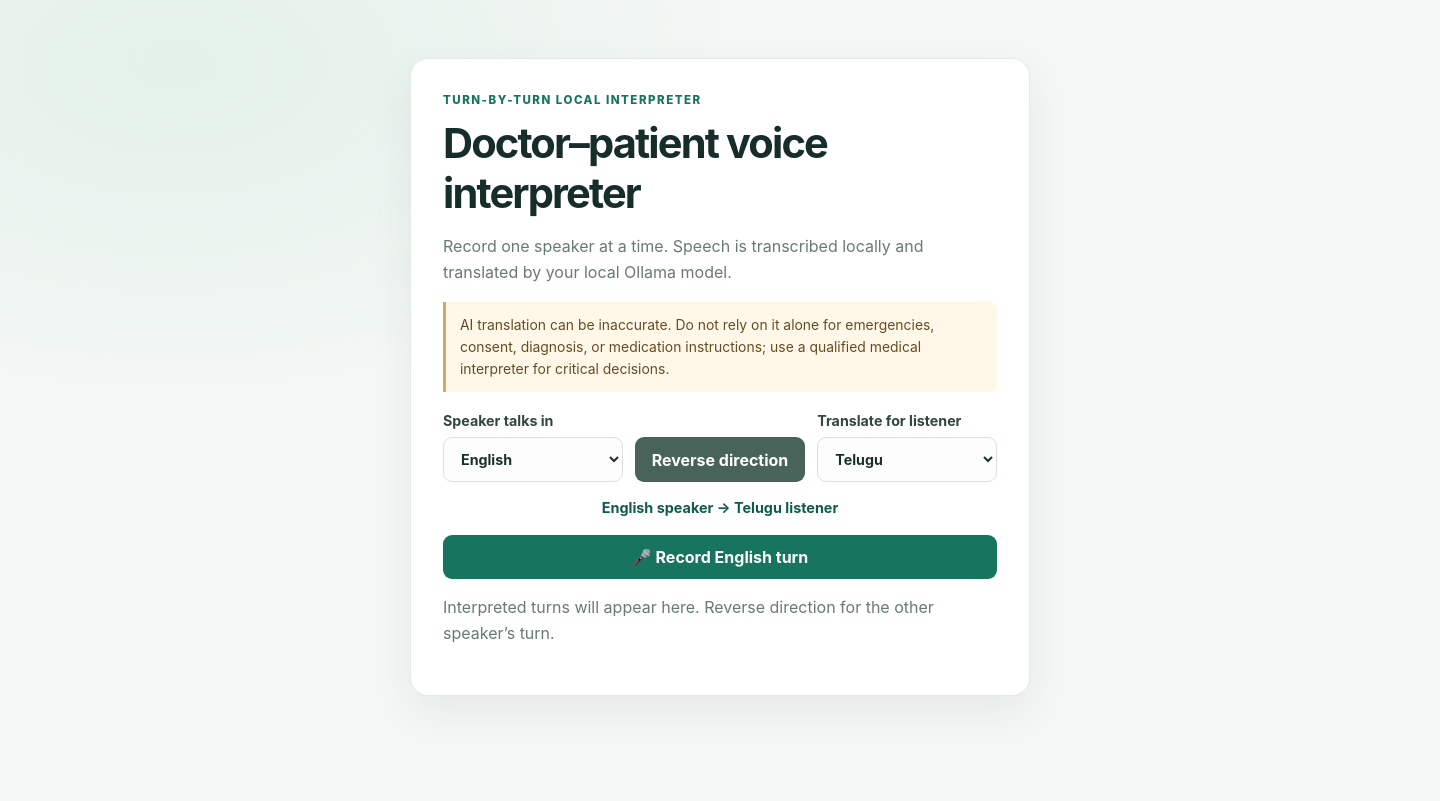
Test case: patient web flow › interprets turns in both directions for the doctor and patient
Click the button "🎤 Record English turn" at (720, 558), box [443,536,997,580]
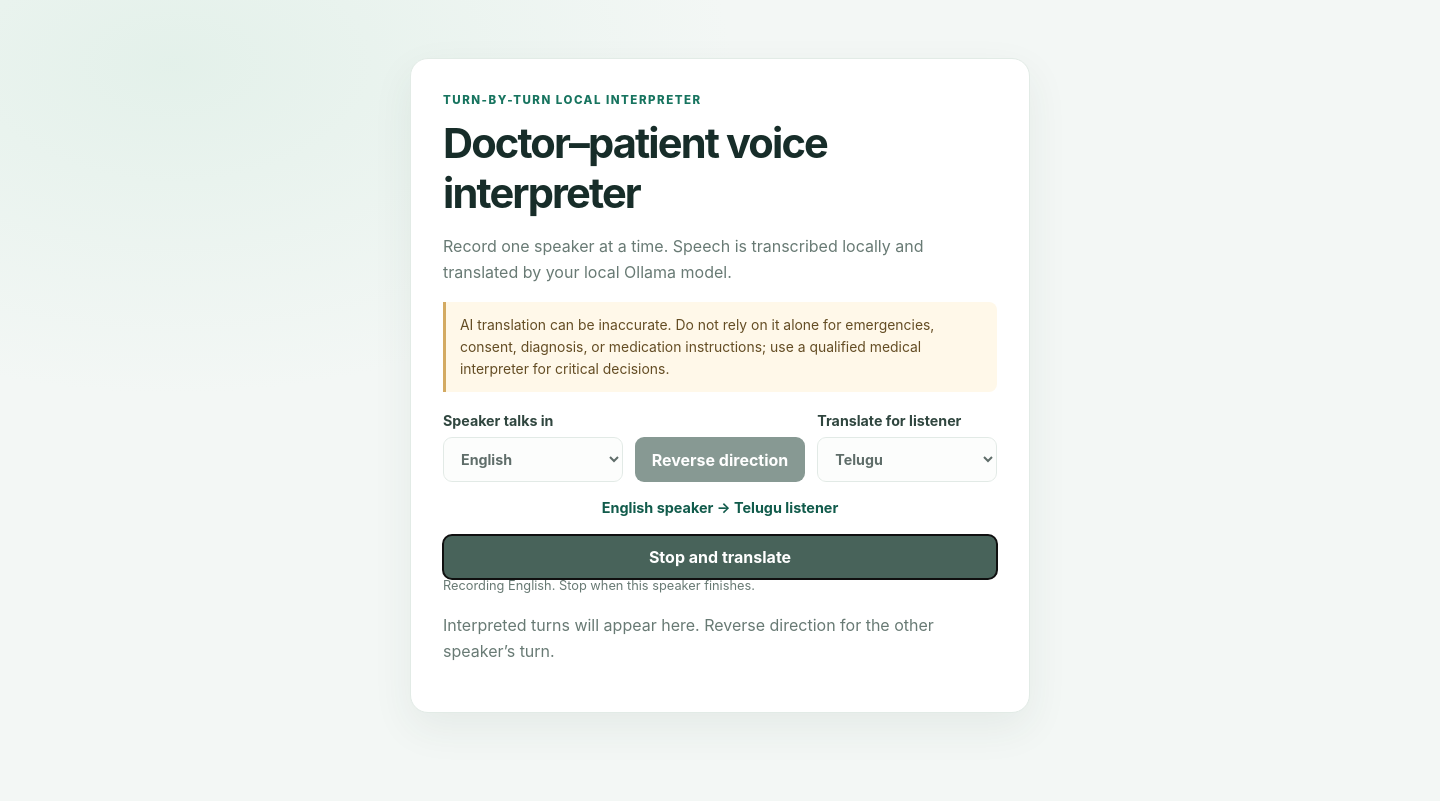
Click the button "Stop and translate" at (720, 558), box [443,536,997,580]
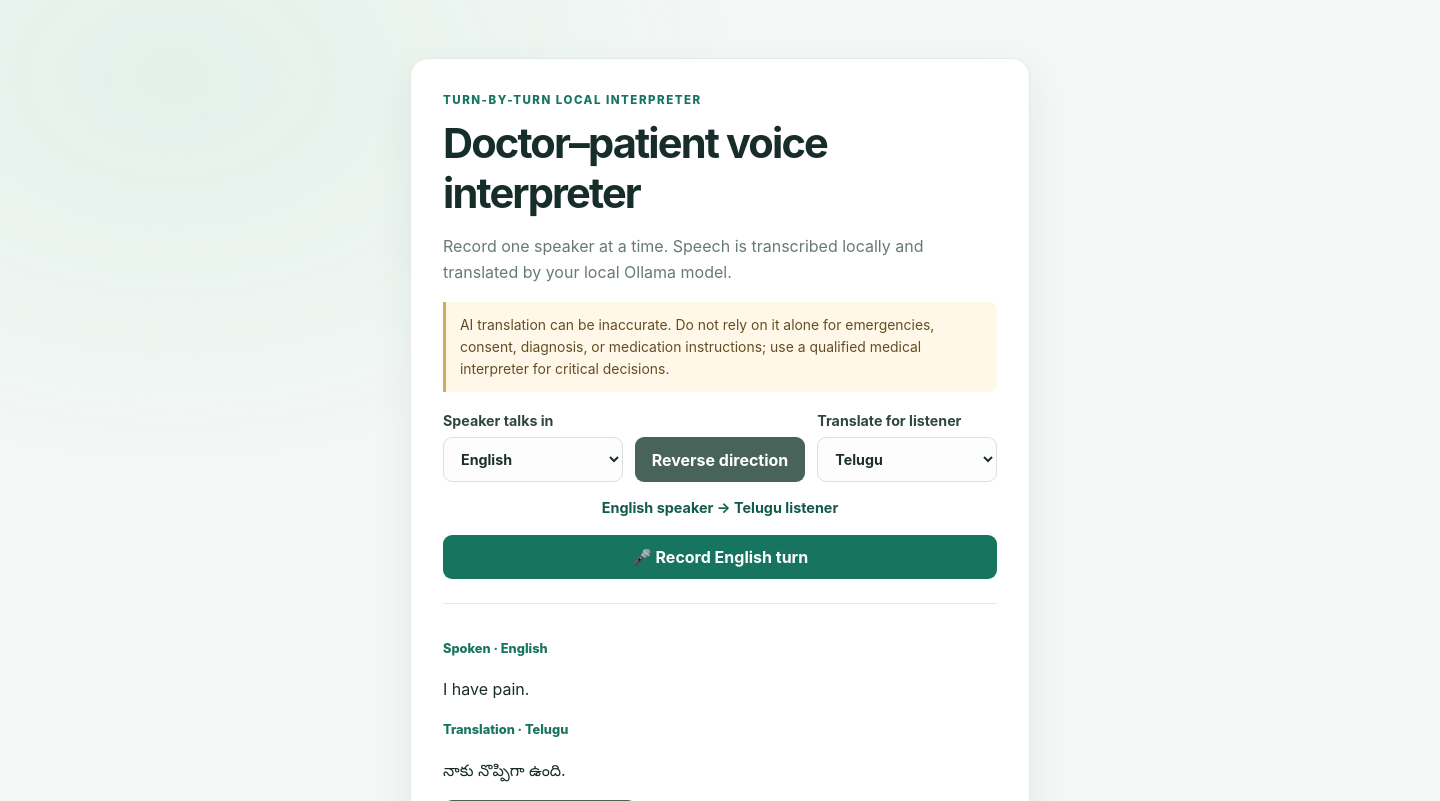
Expected: the text "నాకు నొప్పిగా ఉంది." is shown, [443,760,566,780]
Click the button "Reverse direction" at (720, 460), box [635,437,805,482]
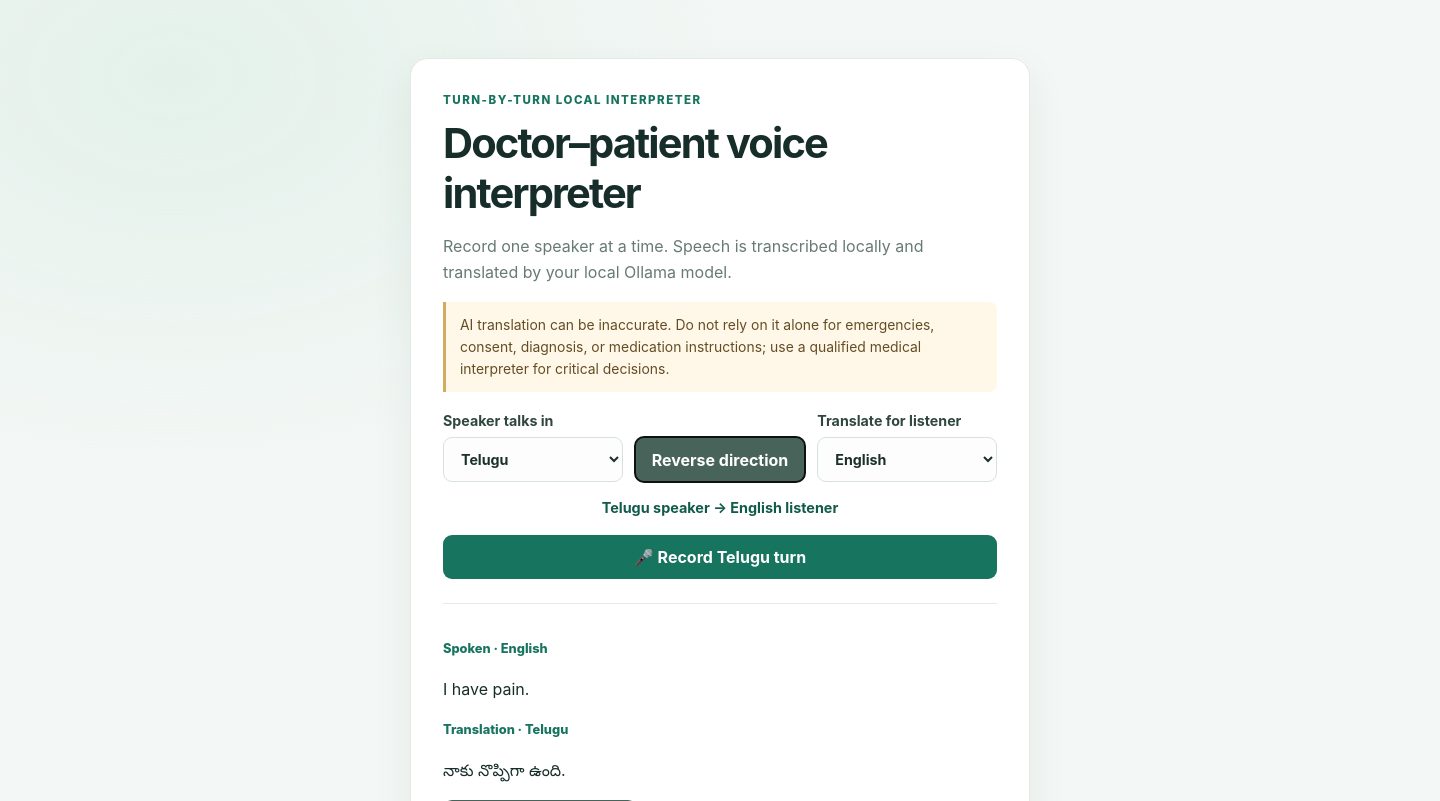
Expected: the button "🎤 Record Telugu turn" is shown
Click the button "🎤 Record Telugu turn" at (720, 558), box [443,536,997,580]
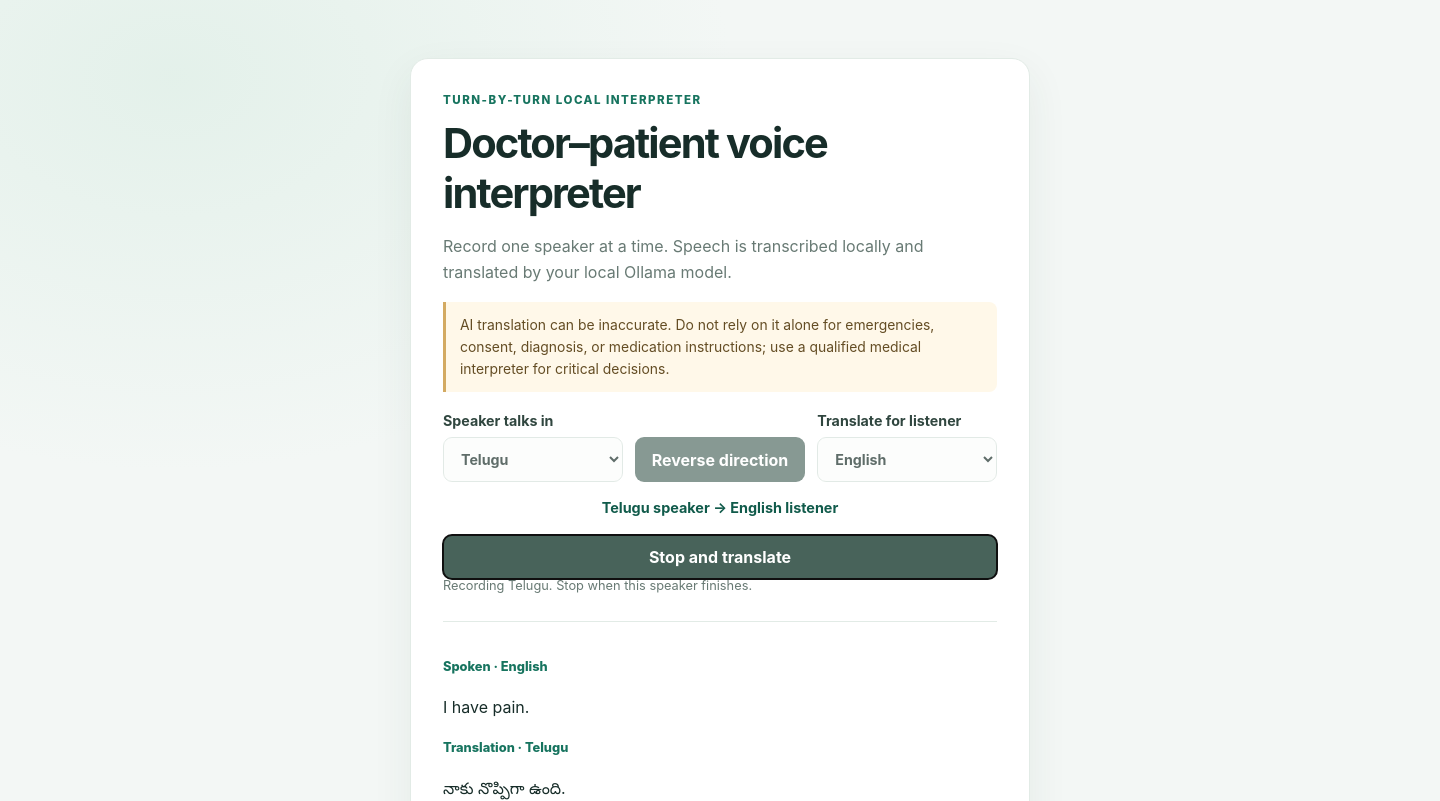
Click the button "Stop and translate" at (720, 558), box [443,536,997,580]
(page scrolled)
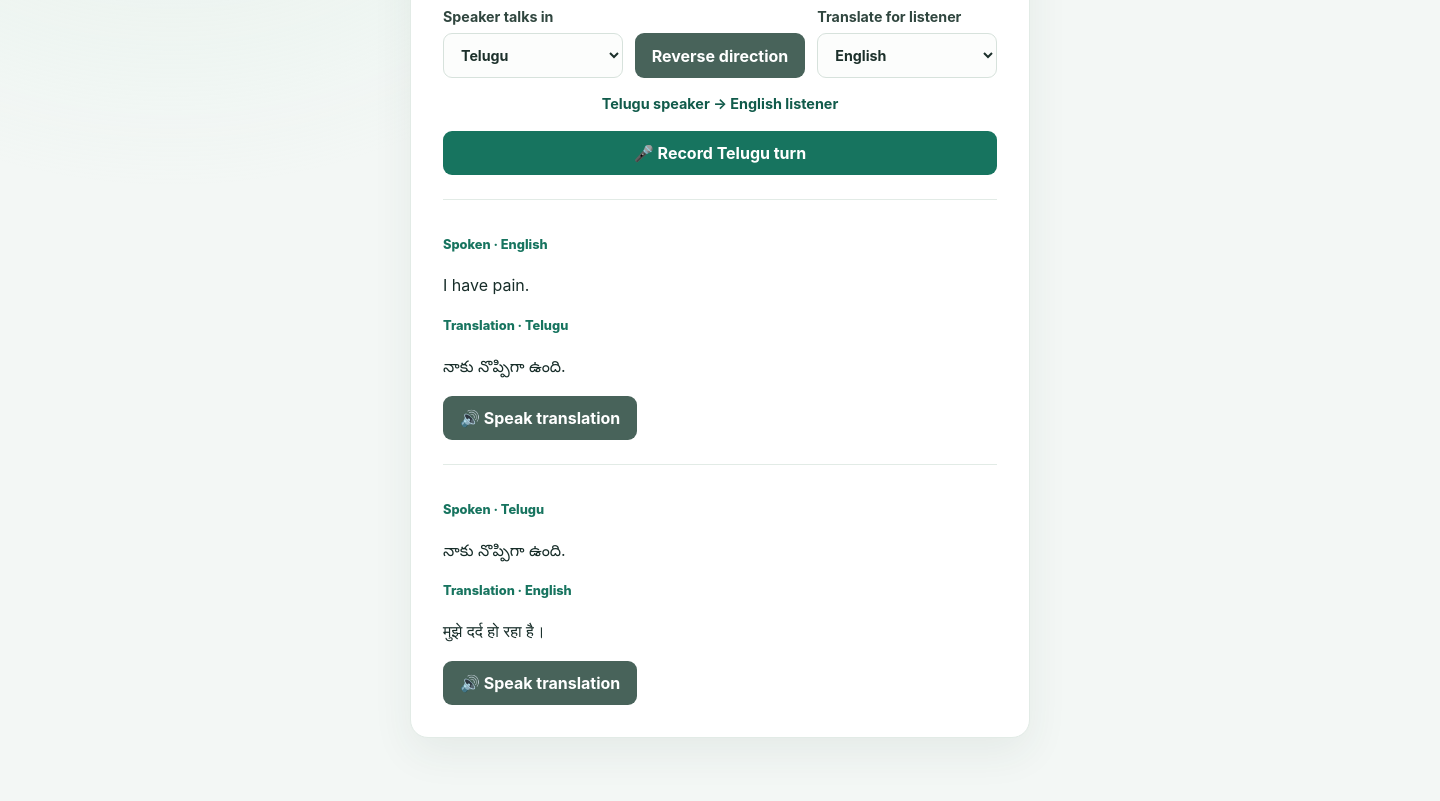
Expected: the text "मुझे दर्द हो रहा है।" is shown, [443,621,545,641]
